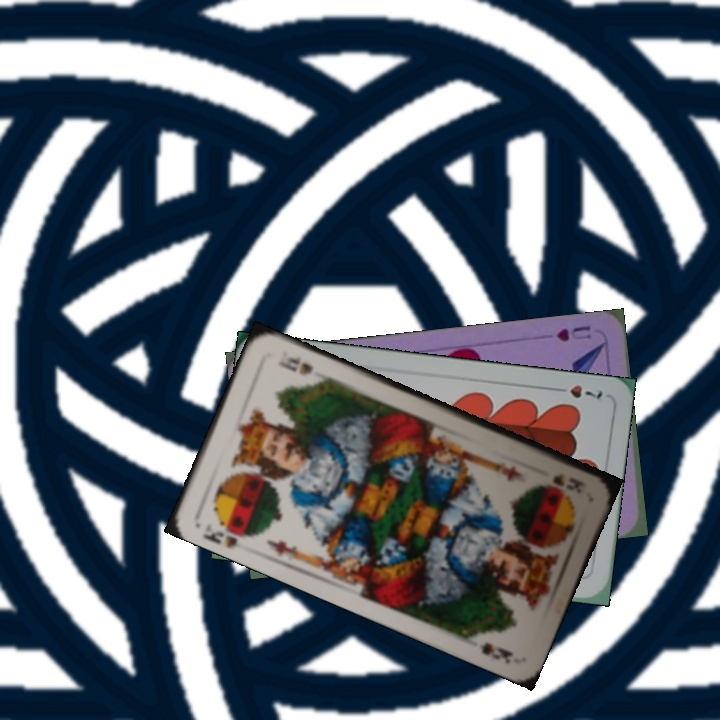H7: (548, 379, 606, 404)
HU: (552, 321, 594, 344)
SK: (199, 526, 240, 551), (548, 470, 588, 491)
